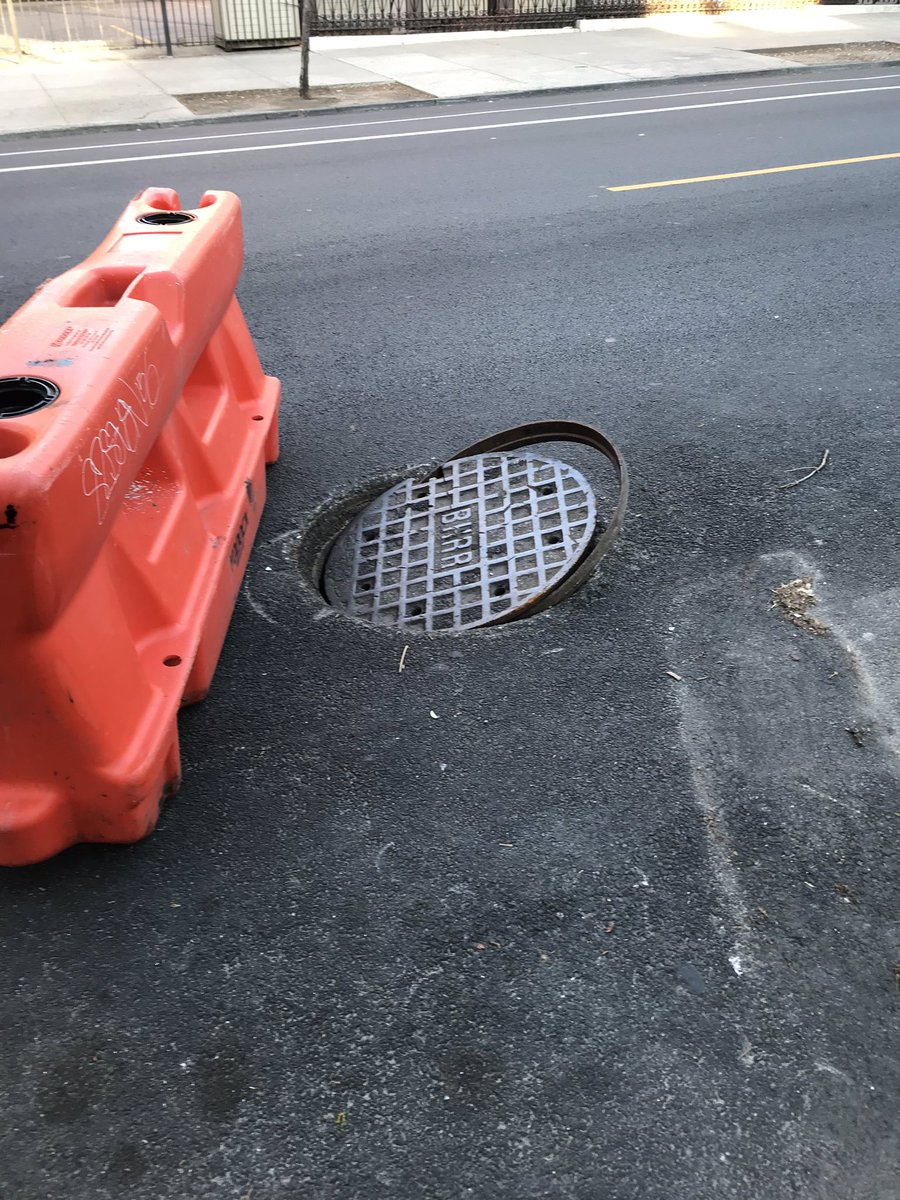manhole cover: (296, 421, 686, 657)
street: (7, 83, 900, 1200)
